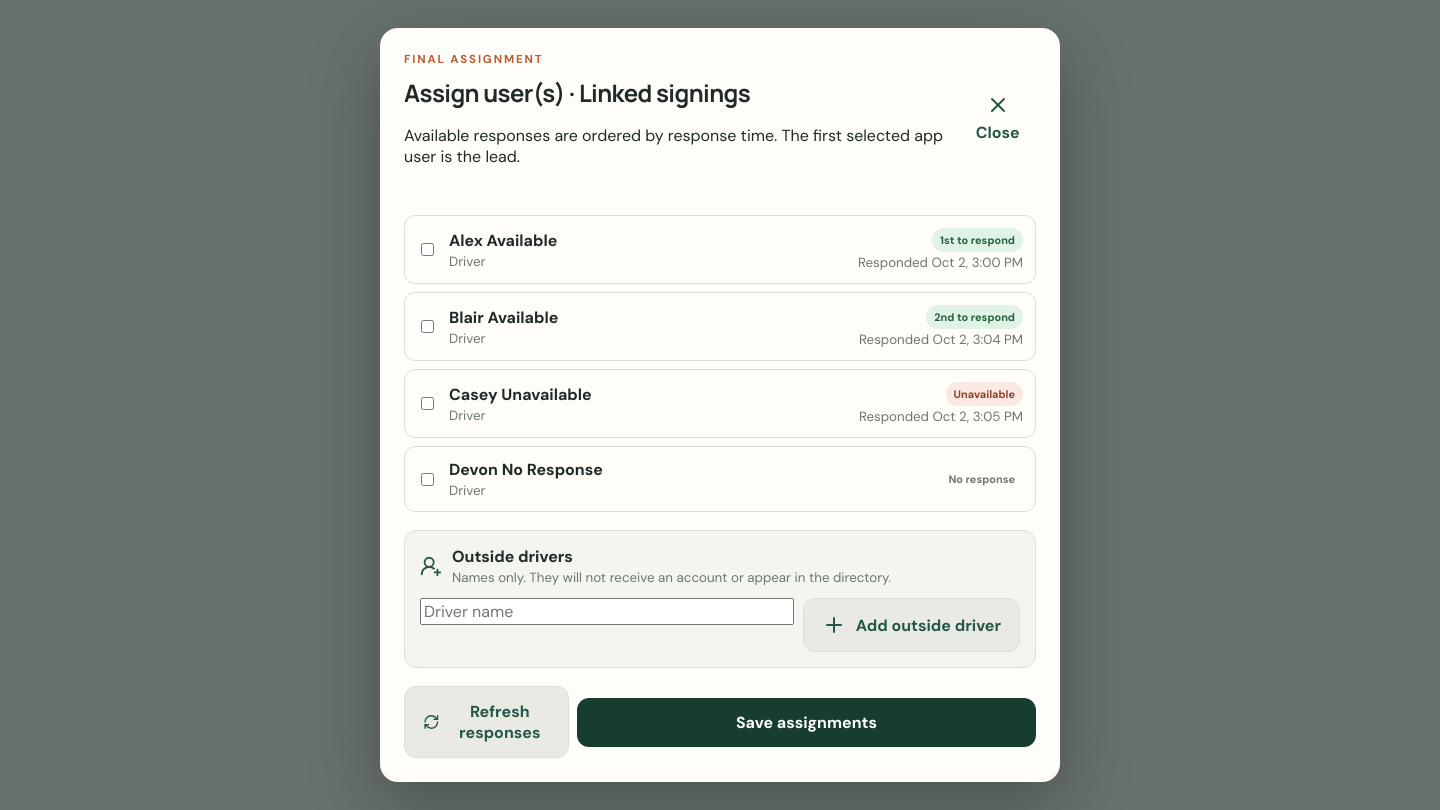
Test: AssignmentDialog › preserves selections after a network failure and refreshes stale assignments
This screenshot has width=1440, height=810.
Click the checkbox labelled "Blair Available" at (428, 326), box [421,320,434,333]
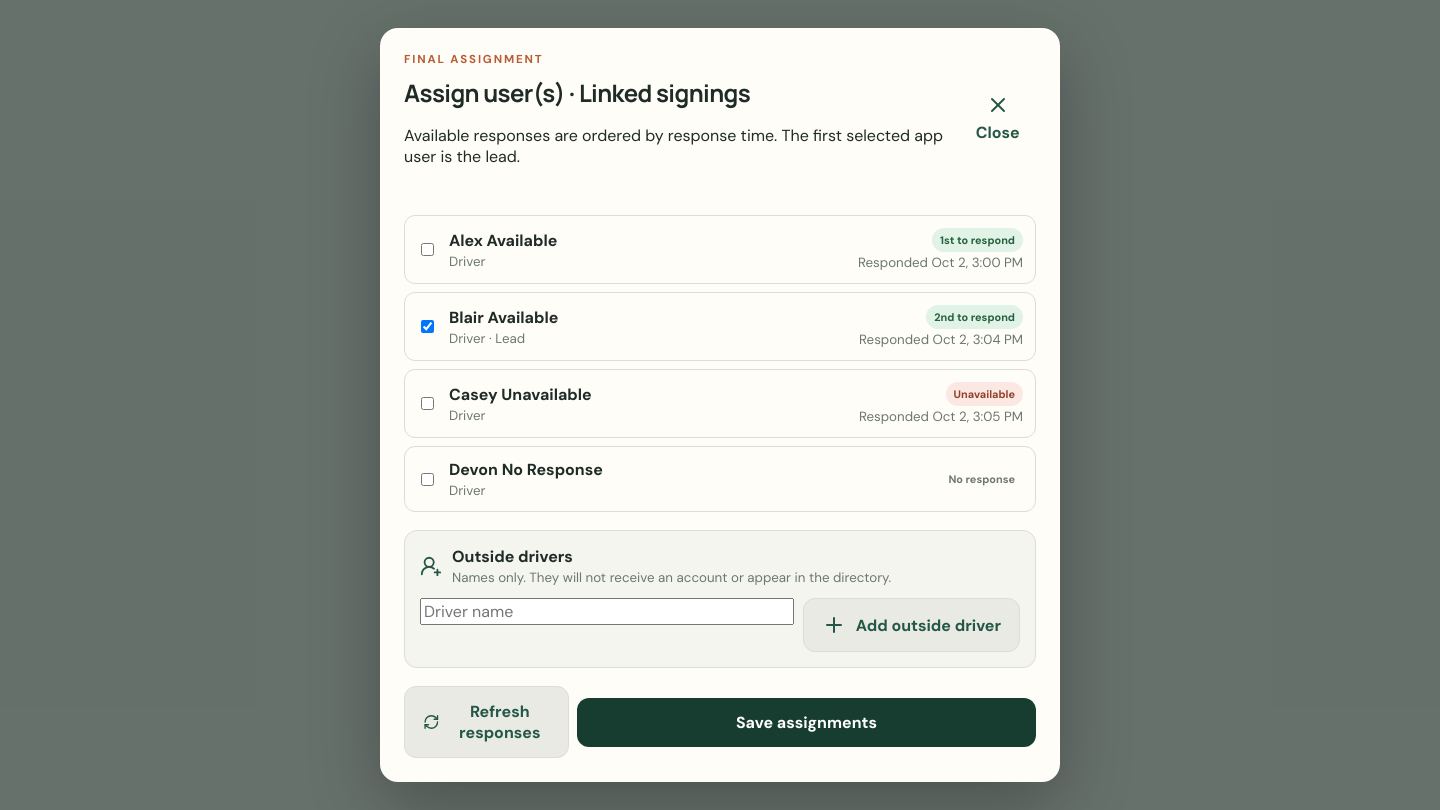
Click the button "Save assignments" at (806, 722), box [577,698,1036,746]
(page scrolled)
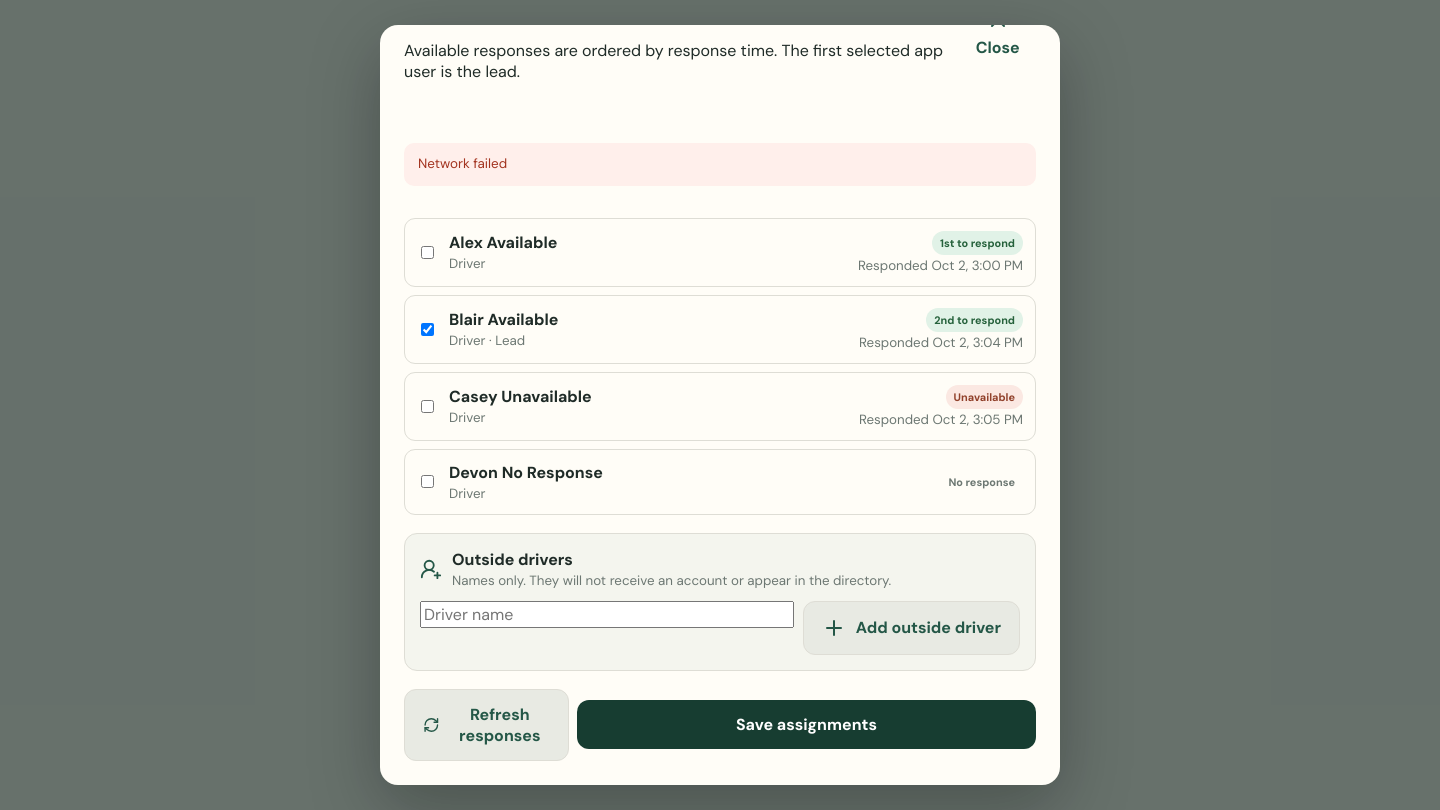
Expected: the checkbox labelled "Blair Available" is checked, [421,323,434,336]
Expected: the message reads "Network failed", [418,155,507,172]
Click the button "Save assignments" at (806, 725), box [577,700,1036,749]
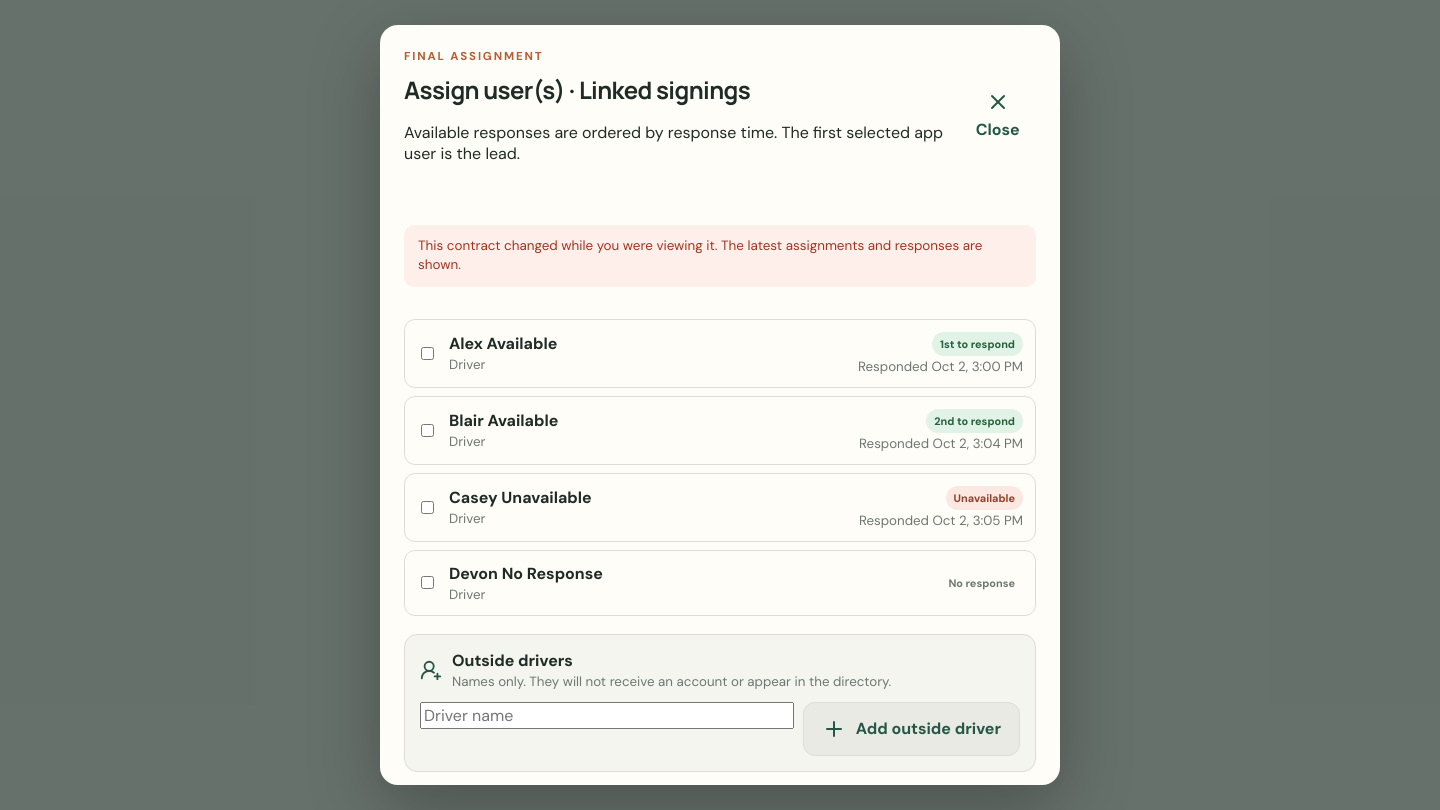
Expected: the message shows "changed while you were viewing it", [418,237,982,273]
